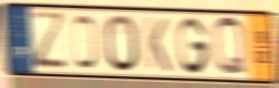0: (72, 13, 99, 70)
G: (175, 15, 211, 76)
K: (142, 15, 173, 74)
O: (103, 13, 141, 74)
Q: (211, 15, 249, 79)
Z: (28, 9, 71, 72)
